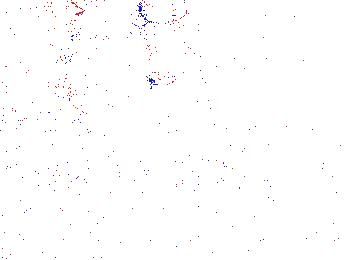moon jellyfish: (7, 105, 96, 191), (1, 8, 56, 122), (68, 13, 149, 87), (153, 13, 254, 60), (140, 21, 191, 86)
